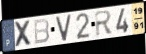2: (75, 12, 91, 40)
4: (115, 7, 131, 34)
B: (33, 18, 51, 46)
R: (94, 9, 115, 38)
V: (55, 13, 73, 43)
X: (13, 19, 34, 48)
